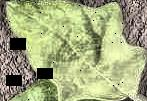HEALTHY: (1, 0, 147, 101)
